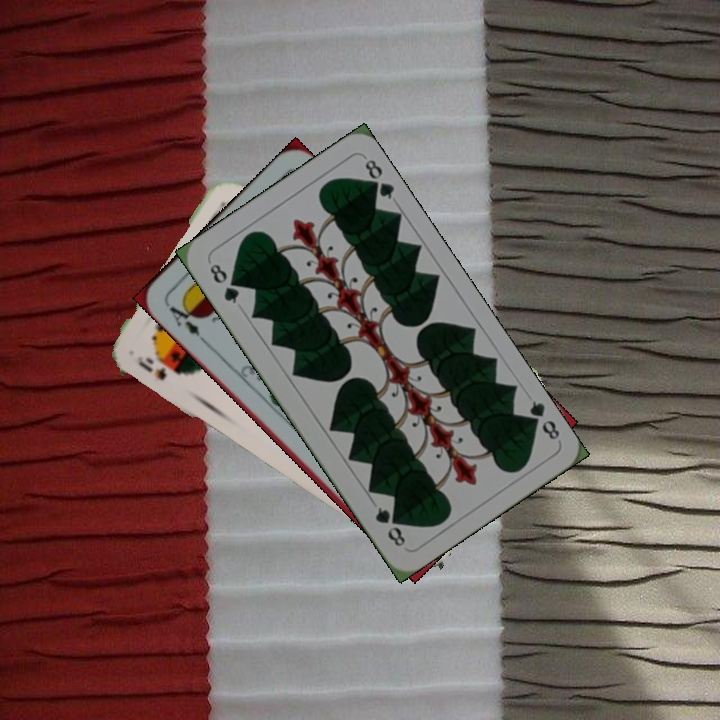EA: (162, 298, 209, 346)
G8: (520, 396, 563, 443), (205, 259, 242, 307)
SO: (133, 353, 183, 383)
